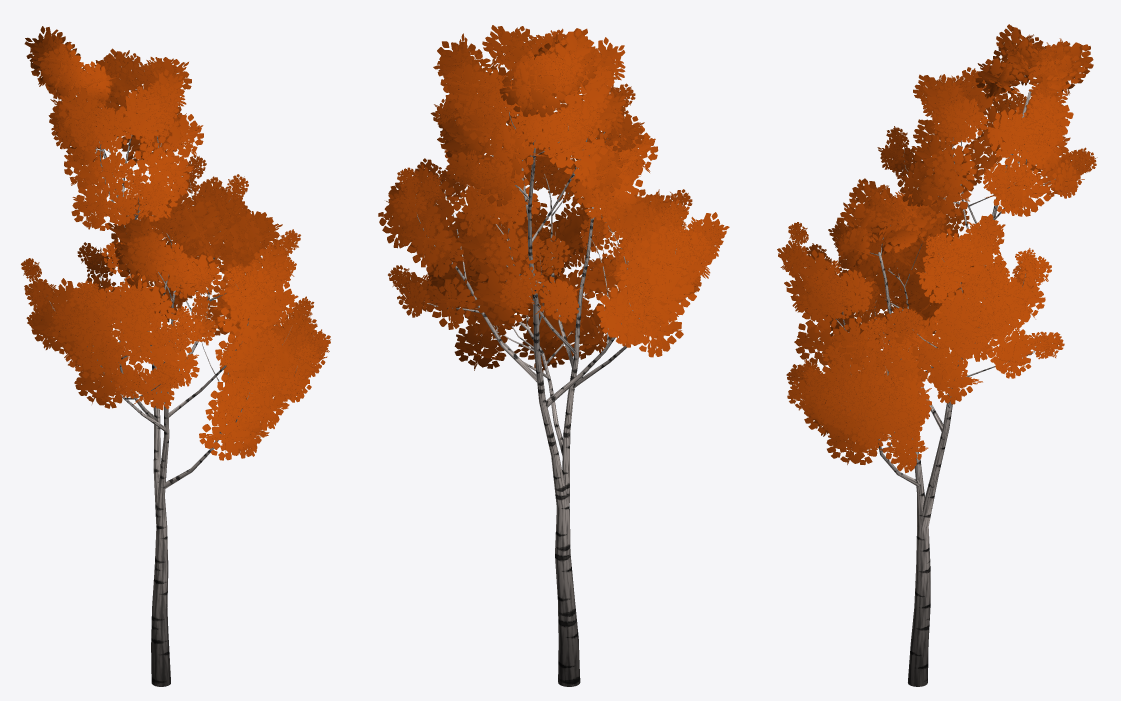
Rendered from Birch_1.glb.
The picture shows the model from 3 angles, left to right: view 1: azimuth 30°, elevation 25°; view 2: azimuth 150°, elevation 25°; view 3: azimuth 270°, elevation 25°; orthographic projection. The views are drawn at different scales.
Visible parts, largest first — view 1: tree003_1, tree003; view 2: tree003_1, tree003; view 3: tree003_1, tree003.
Part boxes in pixels (left/top/right/bottom): tree003_1: left=21, top=26, right=330, bottom=460; tree003: left=49, top=130, right=297, bottom=686; tree003_1: left=378, top=25, right=729, bottom=372; tree003: left=416, top=112, right=676, bottom=686; tree003_1: left=777, top=24, right=1097, bottom=473; tree003: left=835, top=91, right=1055, bottom=686.
Bounding box in the file's own units: 6.43 × 13.72 × 6.54.
Materials: 2 (2 with a texture image).
